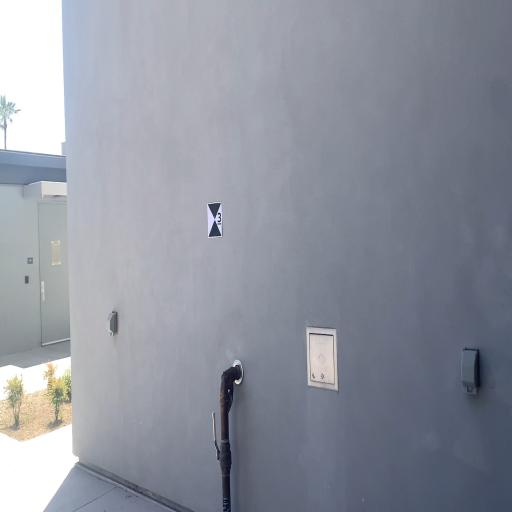target3: (207, 201, 222, 238)
